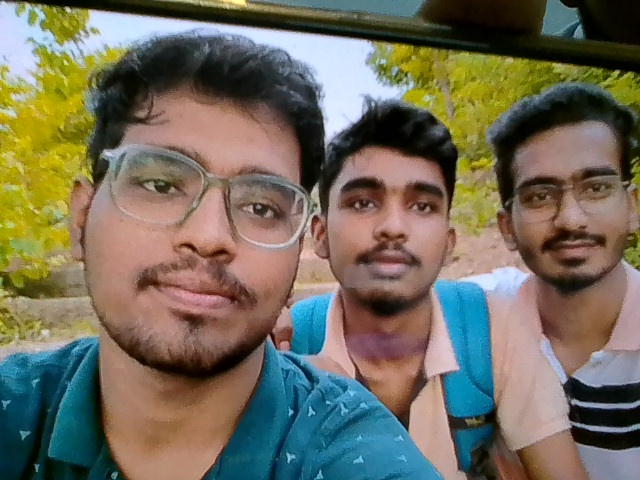real: (63, 12, 329, 389), (311, 98, 465, 317), (496, 81, 640, 296)
